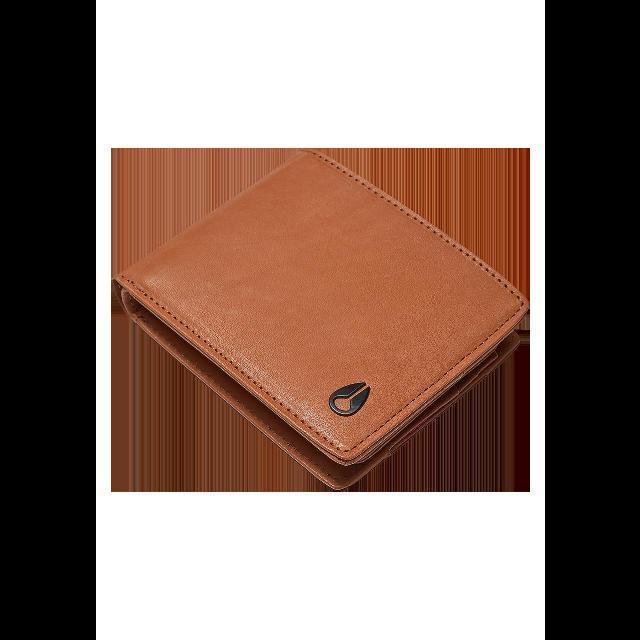wallet: (112, 142, 524, 490)
